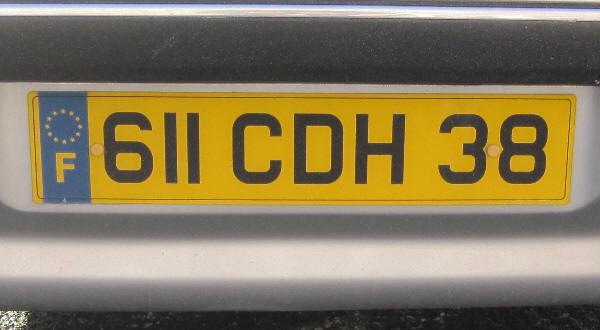license_plate: (27, 90, 577, 209)
